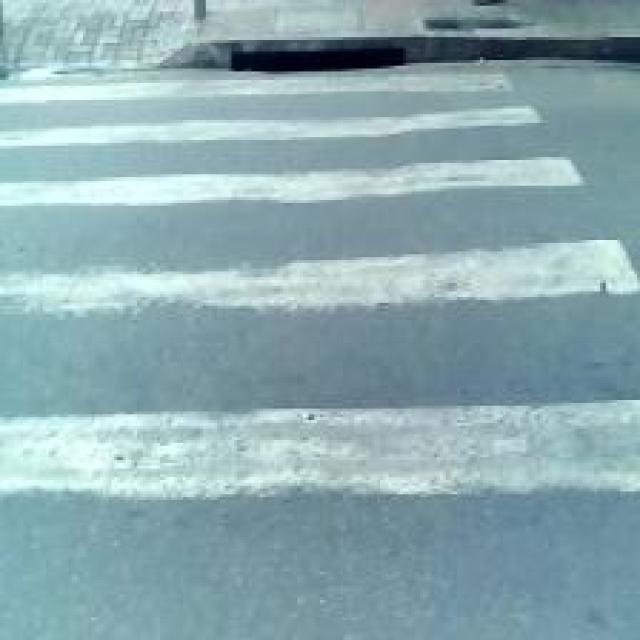walk-crossing: (8, 80, 546, 589)
